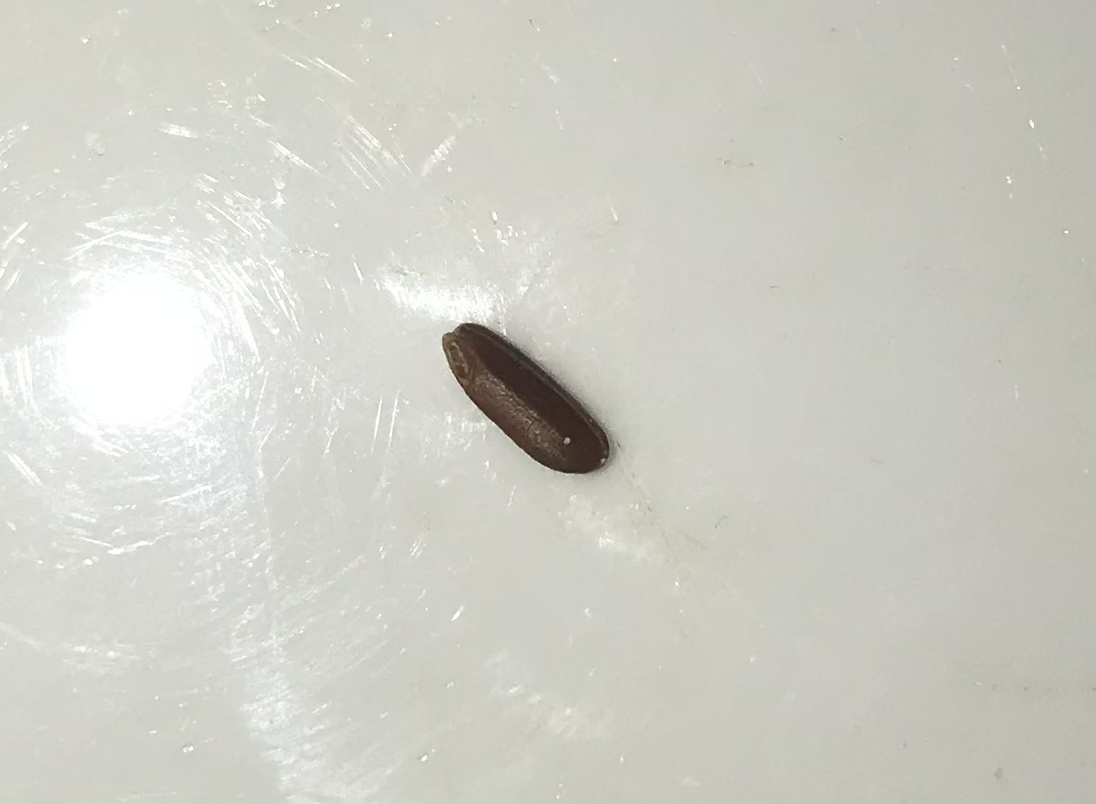Gao Lut Do: (426, 313, 623, 478)
